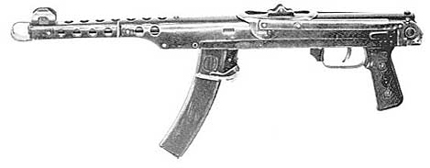rifle: (8, 3, 425, 153)
